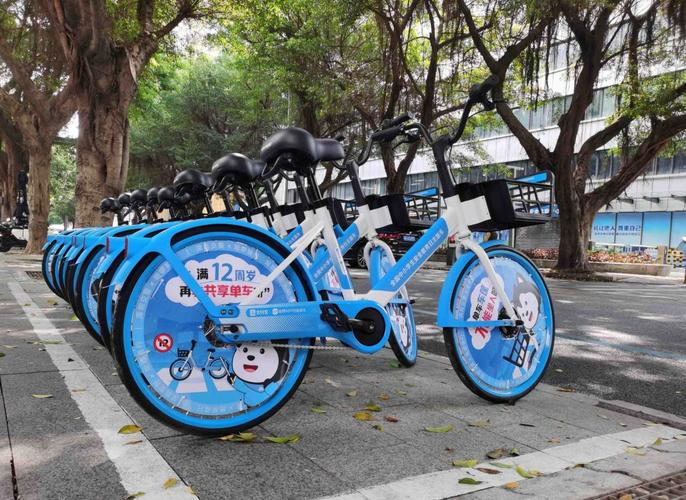单车: (106, 82, 574, 440)
